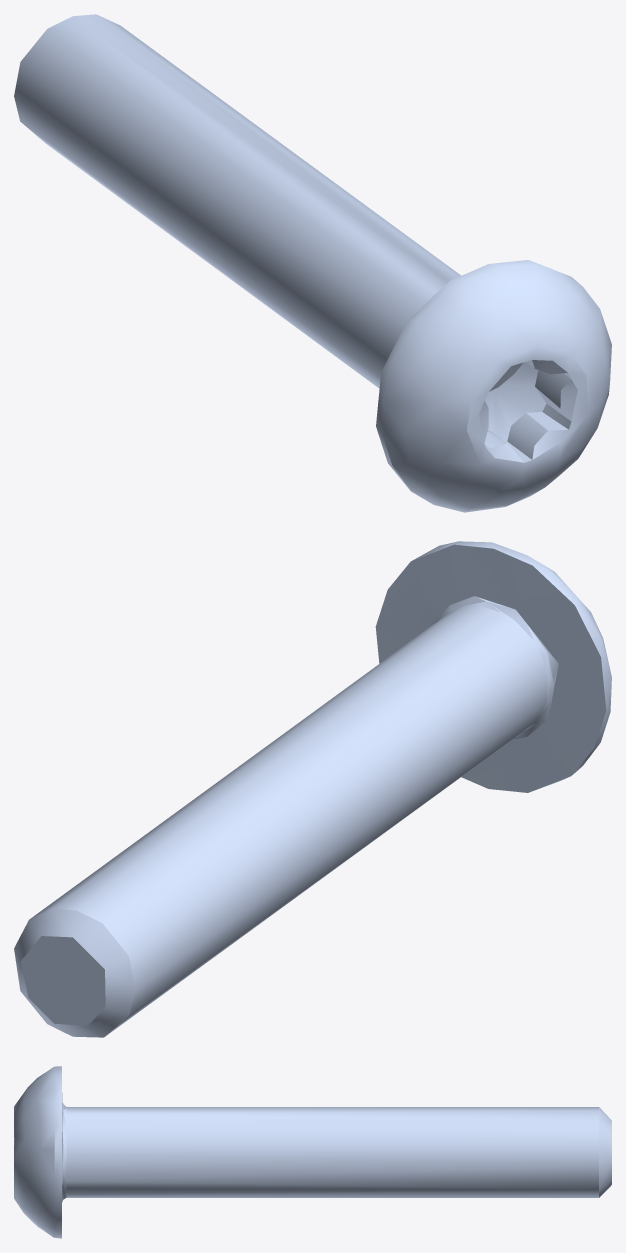
Rendered from _8-32_x_1_000_Star_Drive_Screw__276-4996__1_.glb.
The picture shows the model from 3 angles, top to bottom: view 1: azimuth 30°, elevation 25°; view 2: azimuth 150°, elevation 25°; view 3: azimuth 270°, elevation 25°; orthographic projection. The views are drawn at different scales.
Visible parts, largest first — view 1: #8-32 x 1.000 Star Drive Screw (276-4996)(1); view 2: #8-32 x 1.000 Star Drive Screw (276-4996)(1); view 3: #8-32 x 1.000 Star Drive Screw (276-4996)(1).
Boxes of the visible parts, box(x1,y1,x2,y2) form: #8-32 x 1.000 Star Drive Screw (276-4996)(1): box(14, 14, 611, 512); #8-32 x 1.000 Star Drive Screw (276-4996)(1): box(14, 541, 611, 1037); #8-32 x 1.000 Star Drive Screw (276-4996)(1): box(14, 1066, 611, 1238).
Size of the model in its own units: 0.3123 by 0.3131 by 1.09.
